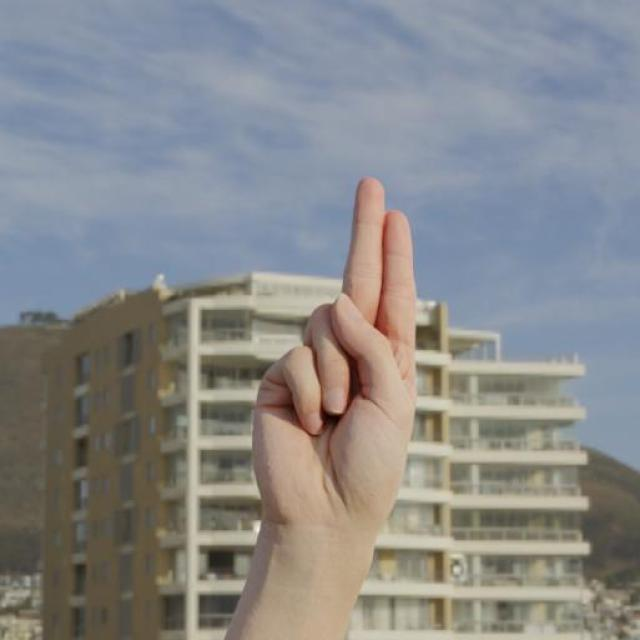U: (241, 169, 426, 536)
